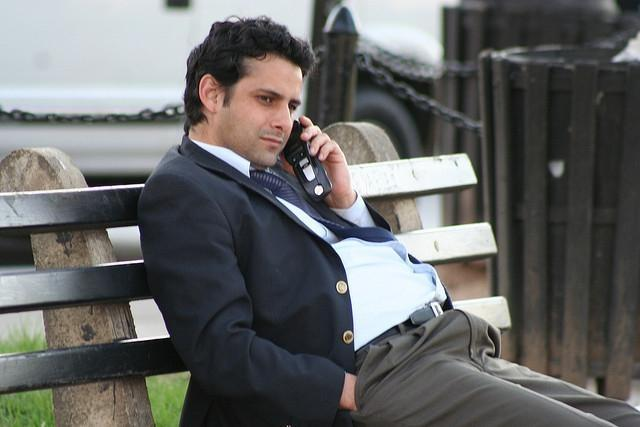car: (1, 2, 454, 176)
